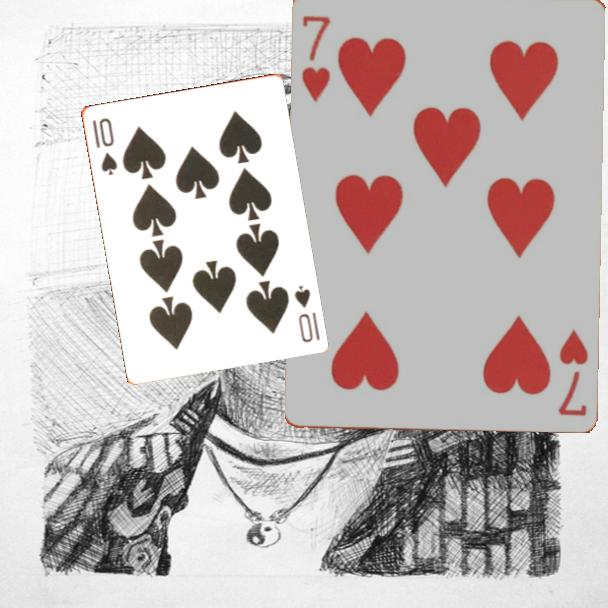h07: (297, 12, 333, 105), (554, 325, 590, 418)
s10: (88, 114, 120, 178), (290, 282, 322, 345)
